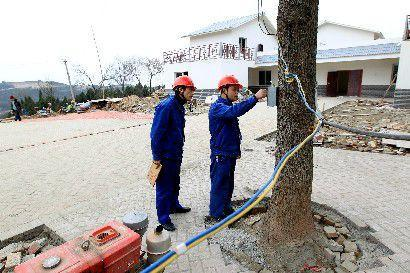helmet: (217, 73, 243, 100), (172, 73, 196, 102)
